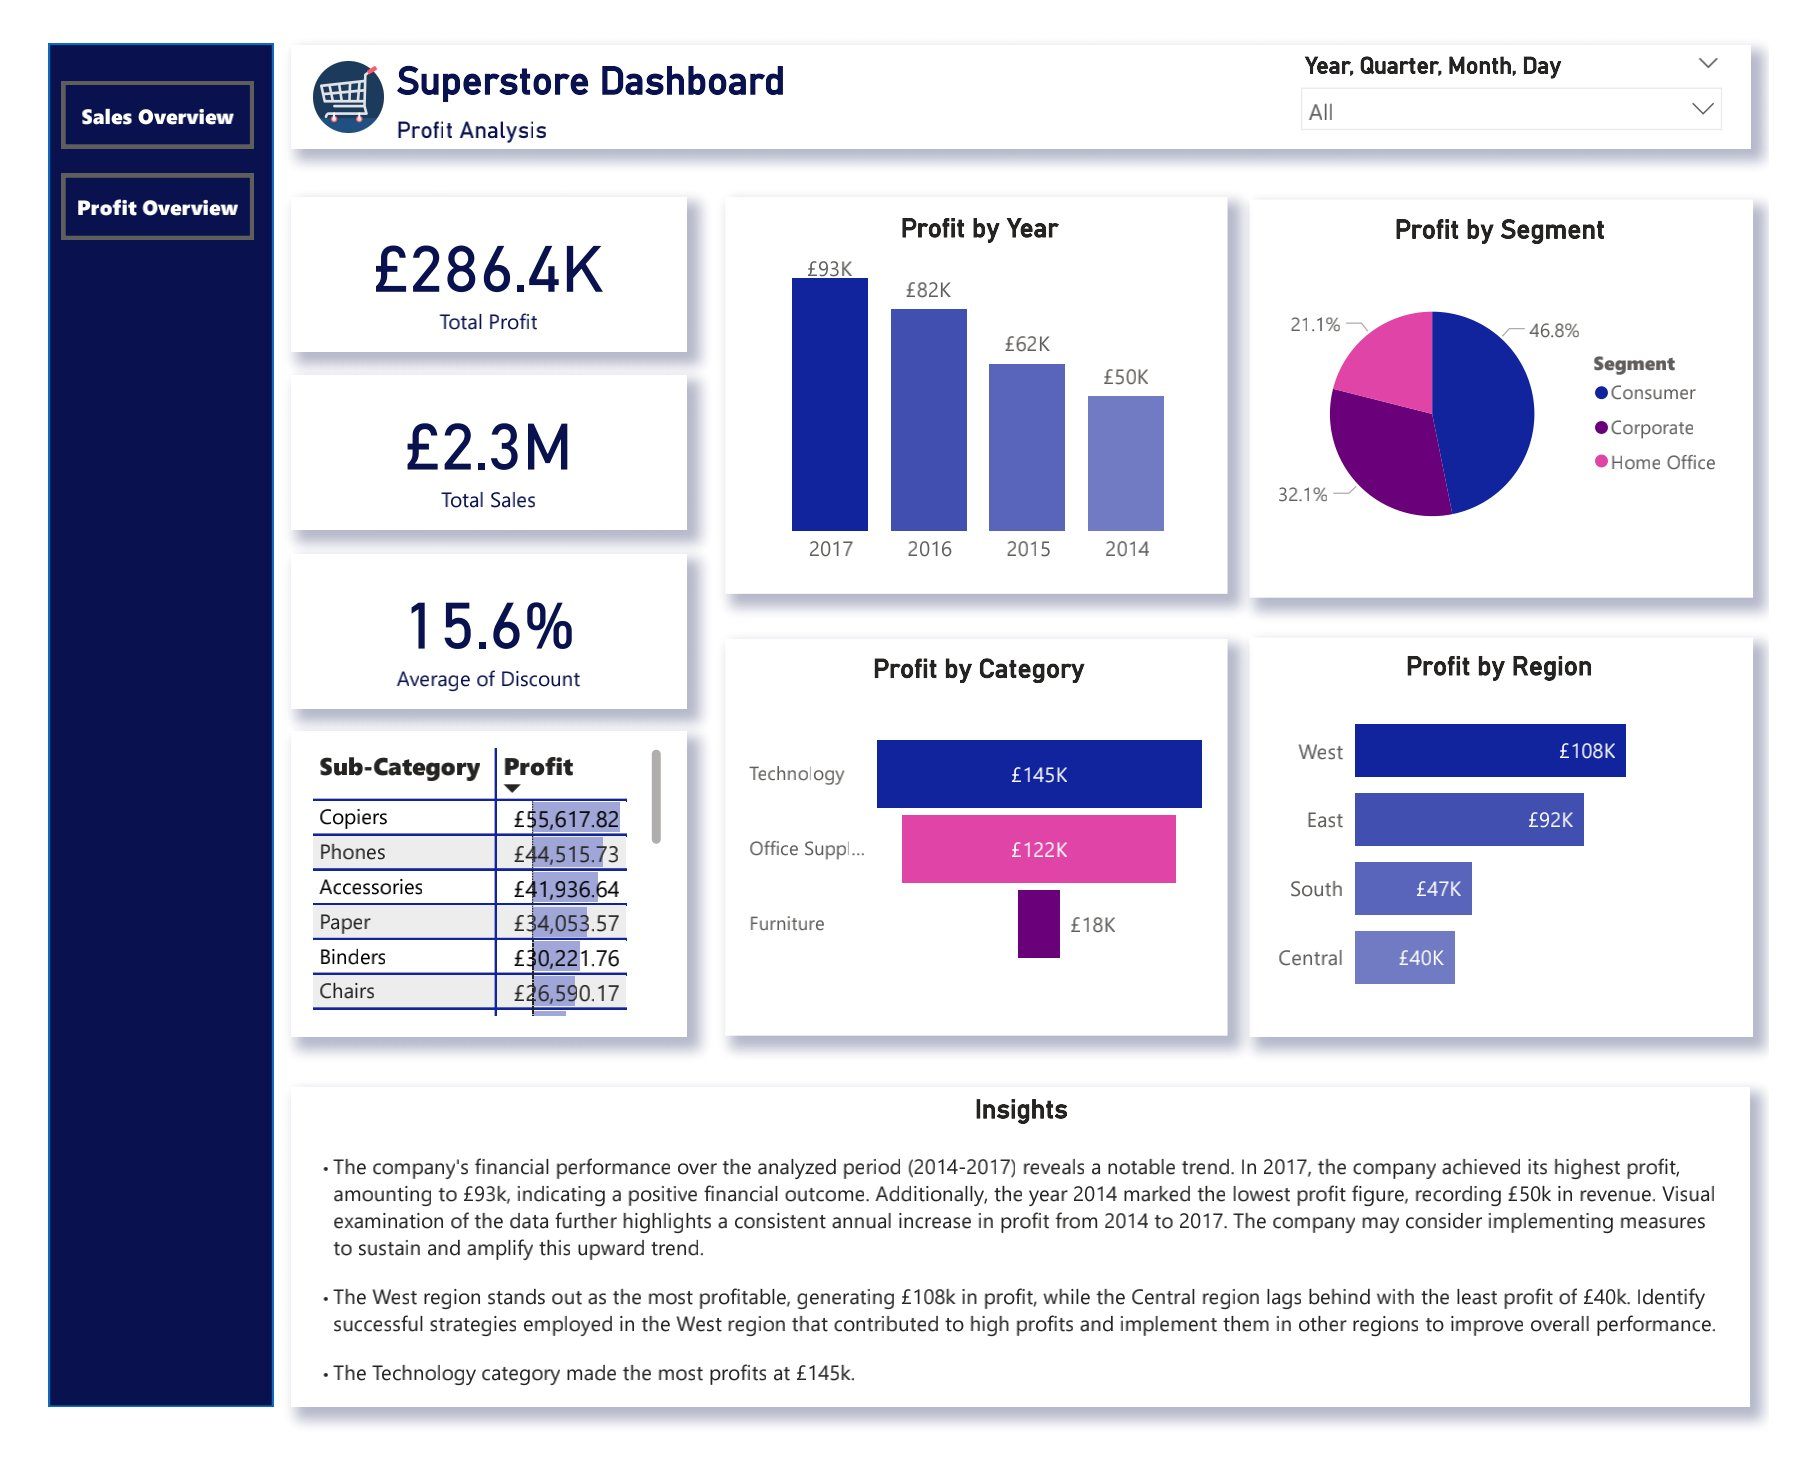

The dashboard page shown, as its layout file describes it:
{"tool":"powerbi","page":{"name":"Page 1","canvas":[1350,1090],"ordinal":0},"visuals":[{"type":"shape","box":[202,10.6,1132.8,80.5],"z":0},{"type":"card","fields":{"Values":["Sum(Orders.Sales)"]},"box":[201.7,135,306.7,120],"z":0,"group":"g6"},{"type":"shape","box":[539.1,135.2,390,308],"z":0,"group":"g5"},{"type":"shape","box":[946.1,136.7,390.9,309],"z":0,"group":"g2"},{"type":"shape","box":[946.1,476.8,391.1,309.6],"z":0,"group":"g4"},{"type":"group","id":"g1","title":"Group 6","box":[539.1,478.3,390,308.3],"z":0,"group":"g3"},{"type":"shape","box":[539.1,478.3,390.4,308.3],"z":0,"group":"g1"},{"type":"shape","box":[201.7,550,306.7,236.7],"z":0,"group":"g7"},{"type":"shape","box":[14.1,10.1,173.6,1057.7],"z":1000},{"type":"columnChart","title":"Sales by Year","fields":{"Y":["Sum(Orders.Sales)"],"Category":["Orders.Order Date.Variation.Date Hierarchy.Year"]},"box":[555,147,363.5,282.6],"z":1000,"group":"g5"},{"type":"pieChart","fields":{"Category":["Orders.Segment"],"Y":["Sum(Orders.Sales)"]},"box":[958.5,147.4,364.7,287.7],"z":1000,"group":"g2"},{"type":"barChart","title":"Sales by Region","fields":{"Category":["Orders.Region"],"Y":["Sum(Orders.Sales)"]},"box":[956.5,486.6,367.4,286.7],"z":1000,"group":"g4"},{"type":"funnel","title":"Sales by Category","fields":{"Category":["Orders.Category"],"Y":["Sum(Orders.Sales)"]},"box":[552.8,488.9,366.5,280.6],"z":1000,"group":"g1"},{"type":"pivotTable","fields":{"Rows":["Orders.Sub-Category"],"Values":["Sum(Orders.Sales)"]},"box":[213.4,558.3,281.7,216.7],"z":1000,"group":"g7"},{"type":"group","id":"g2","title":"Group 1","box":[946.1,136.7,388.7,309.8],"z":2000,"group":"g6"},{"type":"shape","box":[201.9,819.5,1132.4,248.3],"z":2000},{"type":"actionButton","box":[24.3,39.5,148.8,51.6],"z":3000},{"type":"card","fields":{"Values":["Avg(Orders.Discount)"]},"box":[201.7,411.7,306.7,120],"z":3000,"group":"g6"},{"type":"actionButton","box":[24.3,110.9,148.8,51.6],"z":4000},{"type":"card","fields":{"Values":["Sum(Orders.Profit)"]},"box":[201.7,273.3,306.7,120],"z":4000,"group":"g6"},{"type":"image","box":[214.1,10.6,65.3,80.5],"z":5000},{"type":"group","id":"g3","title":"Group 3","box":[539.1,478.3,390.3,308.3],"z":5000,"group":"g6"},{"type":"textbox","title":"Profit Analysis","box":[279.4,65.9,342.2,25.1],"z":6000},{"type":"group","id":"g4","title":"Group 4","box":[946.1,476.8,391.8,308.3],"z":6000,"group":"g6"},{"type":"textbox","title":"Superstore Dashboard","box":[279.4,21.3,403.9,44],"z":7000},{"type":"group","id":"g5","title":"Group 2","box":[539.1,135.2,390.3,308.3],"z":7000,"group":"g6"},{"type":"slicer","fields":{"Values":["Orders.Order Date.Variation.Date Hierarchy.Year","Orders.Order Date.Variation.Date Hierarchy.Quarter","Orders.Order Date.Variation.Date Hierarchy.Month","Orders.Order Date.Variation.Date Hierarchy.Day"]},"box":[976.4,11,346.9,80.1],"z":8000},{"type":"textbox","title":"Sales Analysis","box":[279.4,65.3,341.7,25.8],"z":8000,"group":"g6"},{"type":"group","id":"g6","title":"Group 7","box":[201.7,65.3,1136.1,996.6],"z":9000},{"type":"group","id":"g7","title":"Group 5","box":[201.7,550,306.7,236.7],"z":9000,"group":"g6"},{"type":"textbox","title":"Insights","box":[214.5,813.6,1114.2,248.3],"z":10000,"group":"g6"}]}

Visuals, with their boxes in screenshot pixels (x1, y1, x2, y2), scaled from the page's 1350x1090 canvas onto the 1800x1465 screenshot:
shape: <box>269,14,1780,122</box>
card - Sum(Orders.Sales): <box>269,181,678,343</box>
shape: <box>719,182,1239,596</box>
shape: <box>1261,184,1783,599</box>
shape: <box>1261,641,1783,1057</box>
"Group 6" group: <box>719,643,1239,1057</box>
shape: <box>719,643,1239,1057</box>
shape: <box>269,739,678,1057</box>
shape: <box>19,14,250,1435</box>
"Sales by Year" columnChart: <box>740,198,1225,577</box>
pieChart - Orders.Segment x Sum(Orders.Sales): <box>1278,198,1764,585</box>
"Sales by Region" barChart: <box>1275,654,1765,1039</box>
"Sales by Category" funnel: <box>737,657,1226,1034</box>
pivotTable - Orders.Sub-Category x Sum(Orders.Sales): <box>285,750,660,1042</box>
"Group 1" group: <box>1261,184,1780,600</box>
shape: <box>269,1101,1779,1435</box>
actionButton: <box>32,53,231,122</box>
card - Avg(Orders.Discount): <box>269,553,678,715</box>
actionButton: <box>32,149,231,218</box>
card - Sum(Orders.Profit): <box>269,367,678,529</box>
image: <box>285,14,373,122</box>
"Group 3" group: <box>719,643,1239,1057</box>
"Profit Analysis" textbox: <box>373,89,829,122</box>
"Group 4" group: <box>1261,641,1784,1055</box>
"Superstore Dashboard" textbox: <box>373,29,911,88</box>
"Group 2" group: <box>719,182,1239,596</box>
slicer - Orders.Order Date.Variation.Date Hierarchy.Year x Orders.Order Date.Variation.Date Hierarchy.Quarter: <box>1302,15,1764,122</box>
"Sales Analysis" textbox: <box>373,88,828,122</box>
"Group 7" group: <box>269,88,1784,1427</box>
"Group 5" group: <box>269,739,678,1057</box>
"Insights" textbox: <box>286,1094,1772,1427</box>
